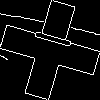I: (25, 25, 72, 51)
